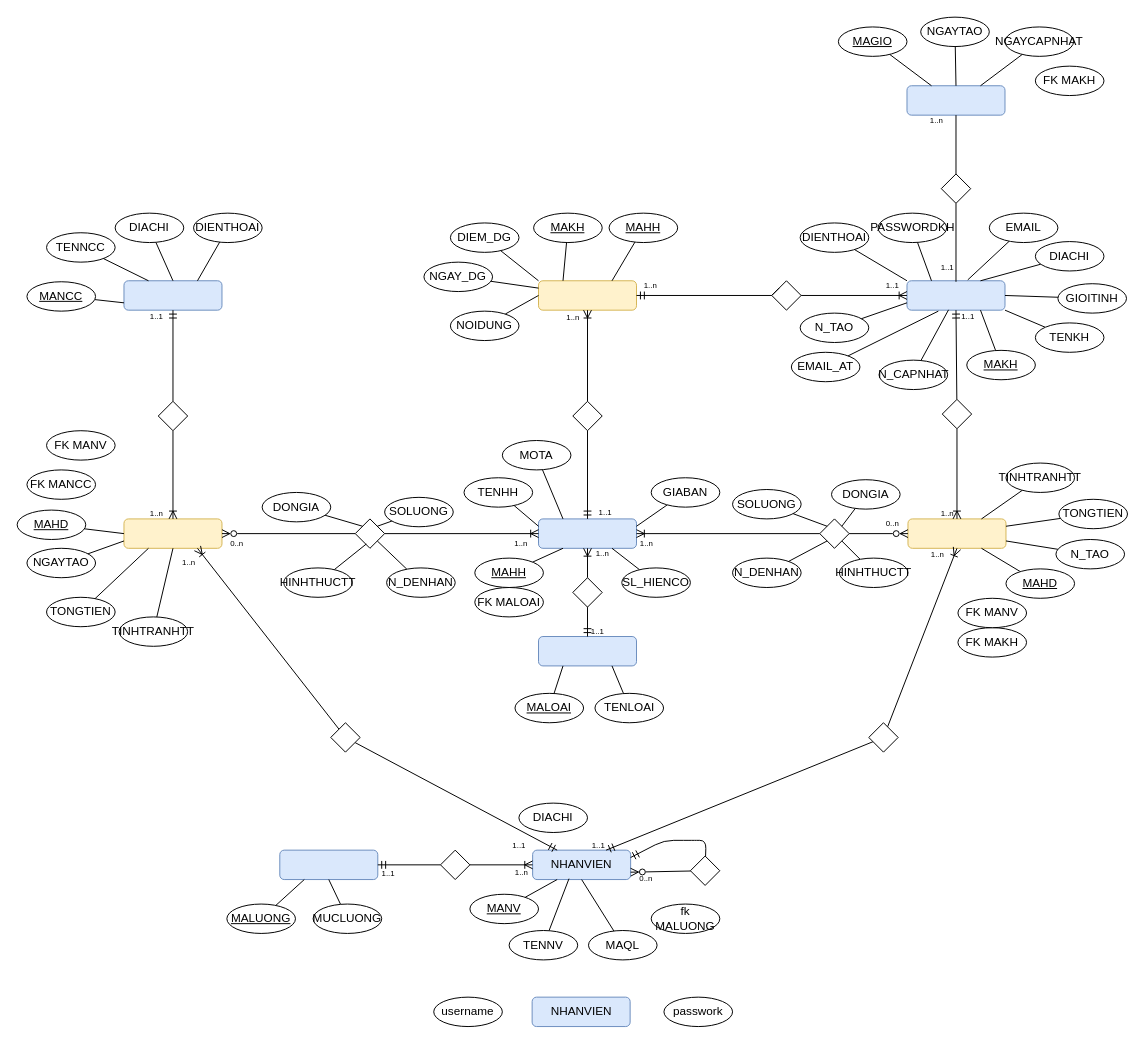
The diagram is 1145 pixels wide and 1044 high, and some of its shapes have lost their labels. The shapes that lost their labels are listed below. From the top down, each one's centre as x and y in pixels, then its label:
At point 955,100: "GIOHANG".
At point 172,295: "NHACUNGCAP".
At point 587,295: "DANHGIA_SP".
At point 955,295: "KHACHHANG".
At point 172,533: "HOADON_NCC".
At point 587,533: "HANGHOA".
At point 956,533: "HOADON_KH".
At point 587,651: "PHANLOAI".
At point 328,864: "BANGLUONG".
